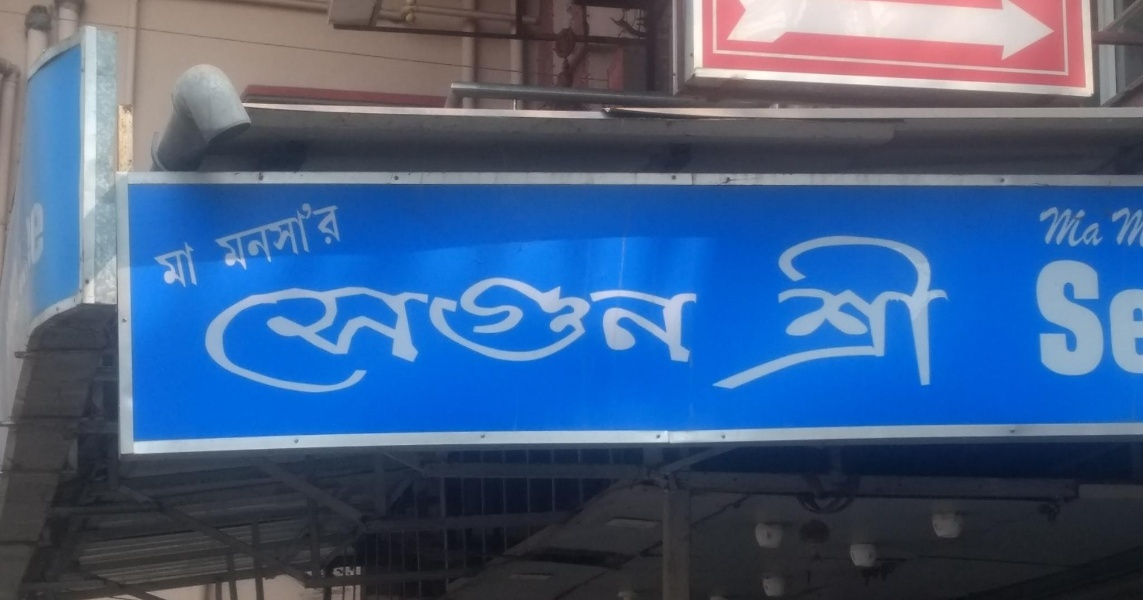text: (737, 233, 752, 392), (753, 233, 768, 392), (769, 233, 784, 392), (785, 233, 800, 392), (801, 233, 816, 392), (817, 233, 832, 392), (833, 233, 848, 392), (849, 233, 864, 392), (865, 233, 880, 392), (881, 233, 896, 392), (897, 233, 912, 392), (913, 233, 928, 392), (929, 233, 944, 392), (945, 233, 957, 392), (209, 277, 224, 395), (225, 277, 240, 395), (241, 277, 256, 395), (257, 277, 272, 395), (273, 277, 288, 395), (289, 277, 304, 395), (305, 277, 320, 395), (321, 277, 336, 395), (337, 277, 352, 395), (353, 277, 368, 395), (369, 277, 384, 395), (385, 277, 400, 395), (401, 277, 416, 395), (417, 277, 432, 395), (433, 277, 448, 395), (449, 277, 464, 395), (465, 277, 480, 395), (481, 277, 496, 395), (497, 277, 512, 395), (513, 277, 528, 395), (529, 277, 544, 395), (545, 277, 560, 395), (561, 277, 576, 395), (577, 277, 592, 395), (593, 277, 608, 395), (609, 277, 624, 395), (625, 277, 640, 395), (641, 277, 656, 395), (657, 277, 672, 395), (673, 277, 688, 395), (1041, 259, 1056, 377), (1057, 259, 1072, 377), (1073, 259, 1088, 377), (1089, 259, 1104, 377), (1105, 259, 1120, 377), (1121, 259, 1136, 377), (725, 233, 736, 392), (689, 277, 702, 395), (225, 196, 240, 277), (241, 196, 256, 277), (257, 196, 272, 277), (273, 196, 288, 277), (289, 196, 304, 277), (305, 196, 320, 277), (321, 196, 336, 277), (337, 196, 349, 277), (213, 196, 224, 277), (161, 241, 176, 292), (177, 241, 192, 292), (1121, 204, 1136, 251), (1041, 205, 1056, 249), (1057, 205, 1072, 249), (1073, 205, 1088, 249), (1089, 205, 1103, 249), (1107, 204, 1120, 251), (203, 277, 208, 395), (1035, 259, 1040, 377), (1137, 259, 1142, 377), (193, 241, 201, 292), (1137, 204, 1143, 251), (155, 241, 160, 292)
